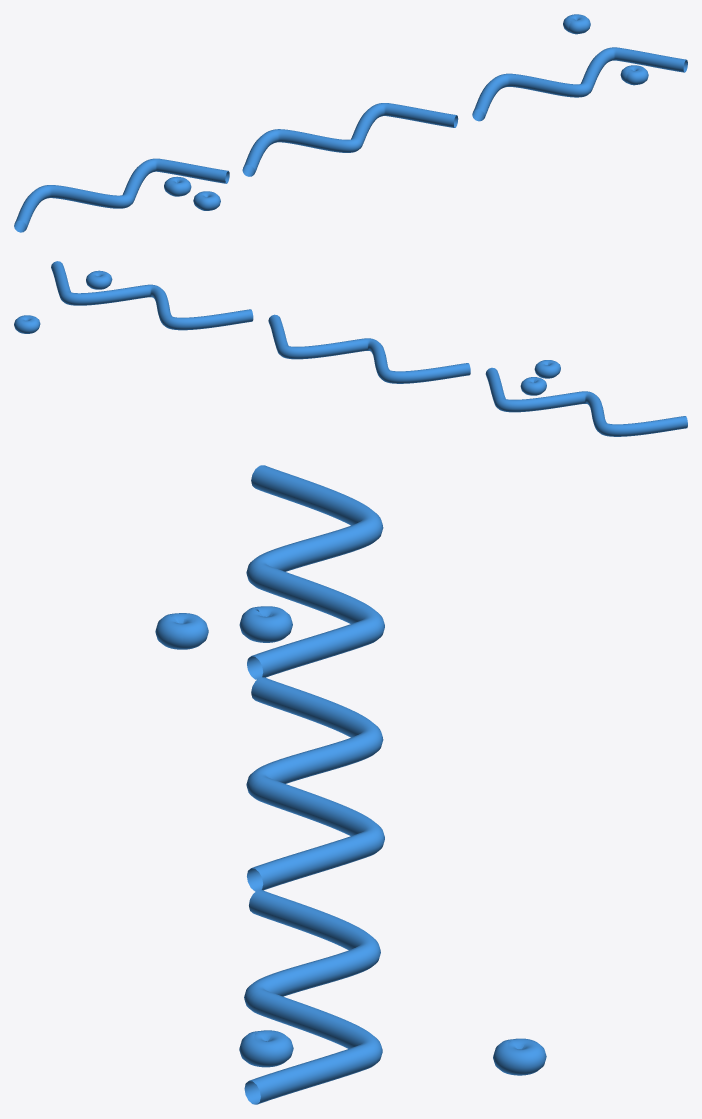
Rendered from aksara_uwai.fbx.
The picture shows the model from 3 angles, top to bottom: view 1: azimuth 30°, elevation 25°; view 2: azimuth 150°, elevation 25°; view 3: azimuth 270°, elevation 25°; orthographic projection. The views are drawn at different scales.
Visible parts, largest first — view 1: BézierCurve.005; view 2: BézierCurve.005; view 3: BézierCurve.005.
Boxes of the visible parts, x1,y1,x2,y2 form: BézierCurve.005: (14,14,687,232); BézierCurve.005: (14,261,687,436); BézierCurve.005: (155,465,546,1104).
Bounding box in the file's own units: 602 × 10.68 × 159.
